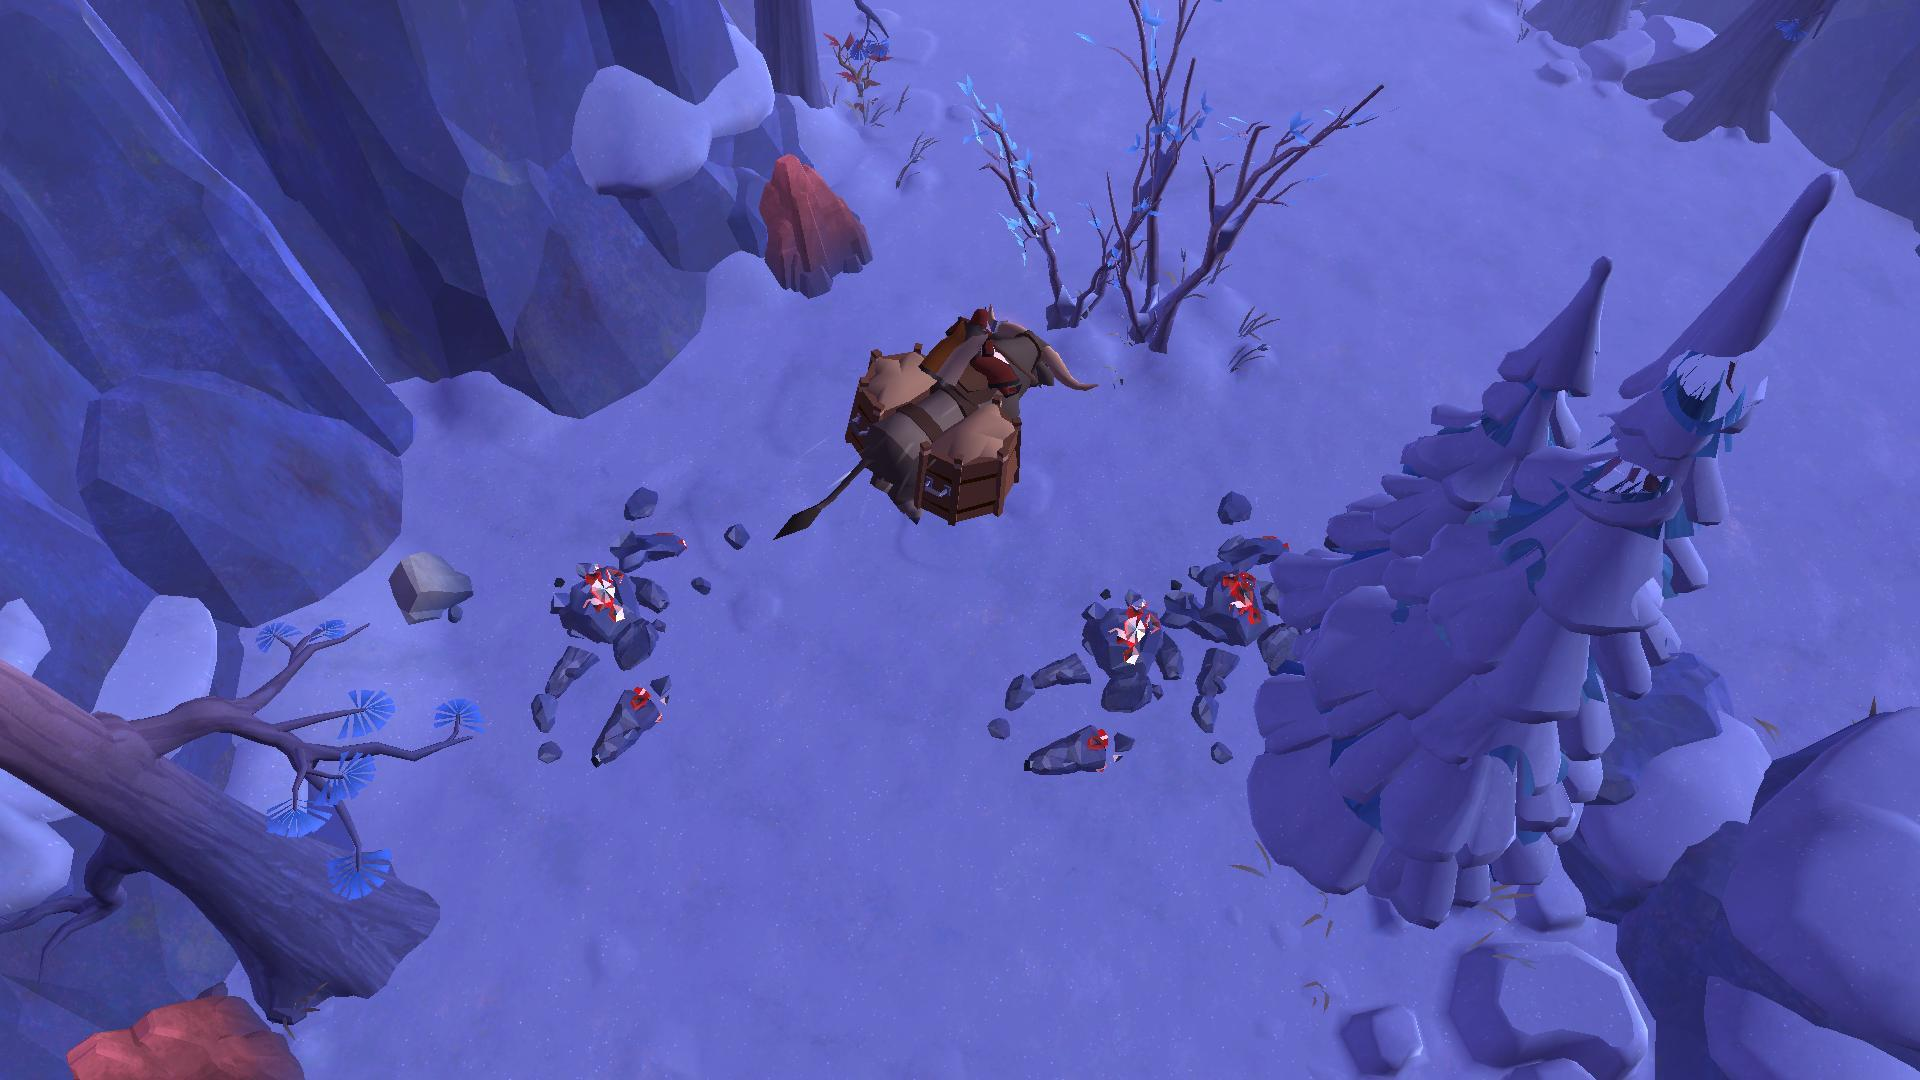rock_t5: (65, 986, 297, 1080), (749, 150, 877, 302)
